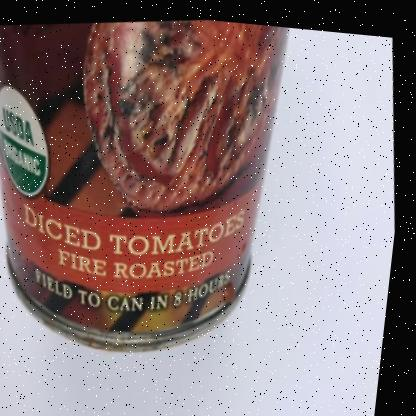Metal: (0, 15, 285, 345)
